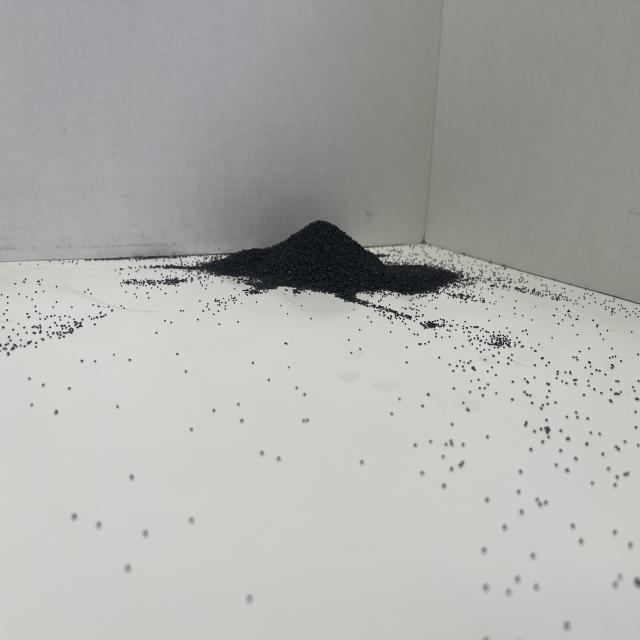Poppy Seeds: (195, 178, 493, 326)
